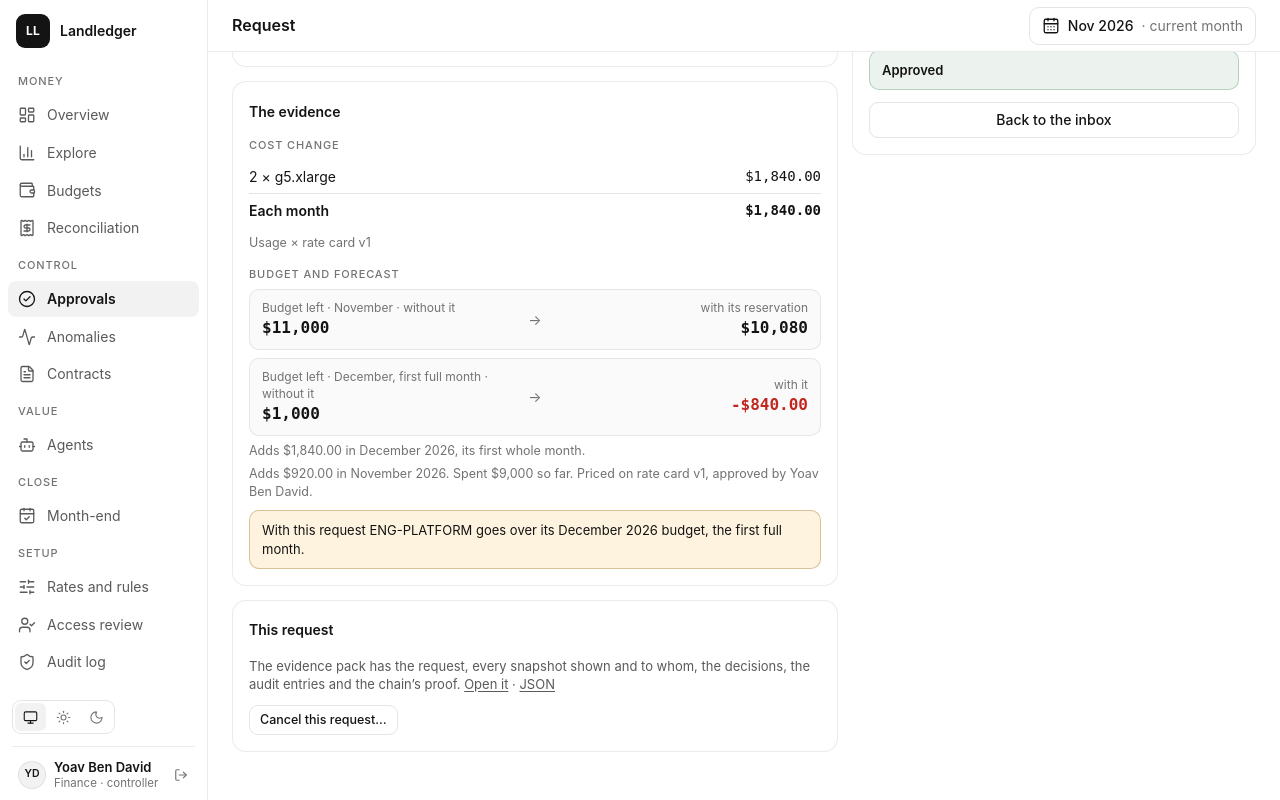
Scenario: review of wave 2 on the request page › marks a relayed decision and one by someone not the owner; shows the commitment and the first full month
(page scrolled)
Expected: the element with test id "first-full-month" shows "first full month", [262,369,481,384]
Expected: the text "Budget left · November · without it" is shown, [262,300,455,315]
Cancel sits apart from the decision and asks first.
What coordinates should you click on to do the following:
click the button with test id "cancel"
I would click on:
 (323, 720)
Its box is [249,705,398,735].
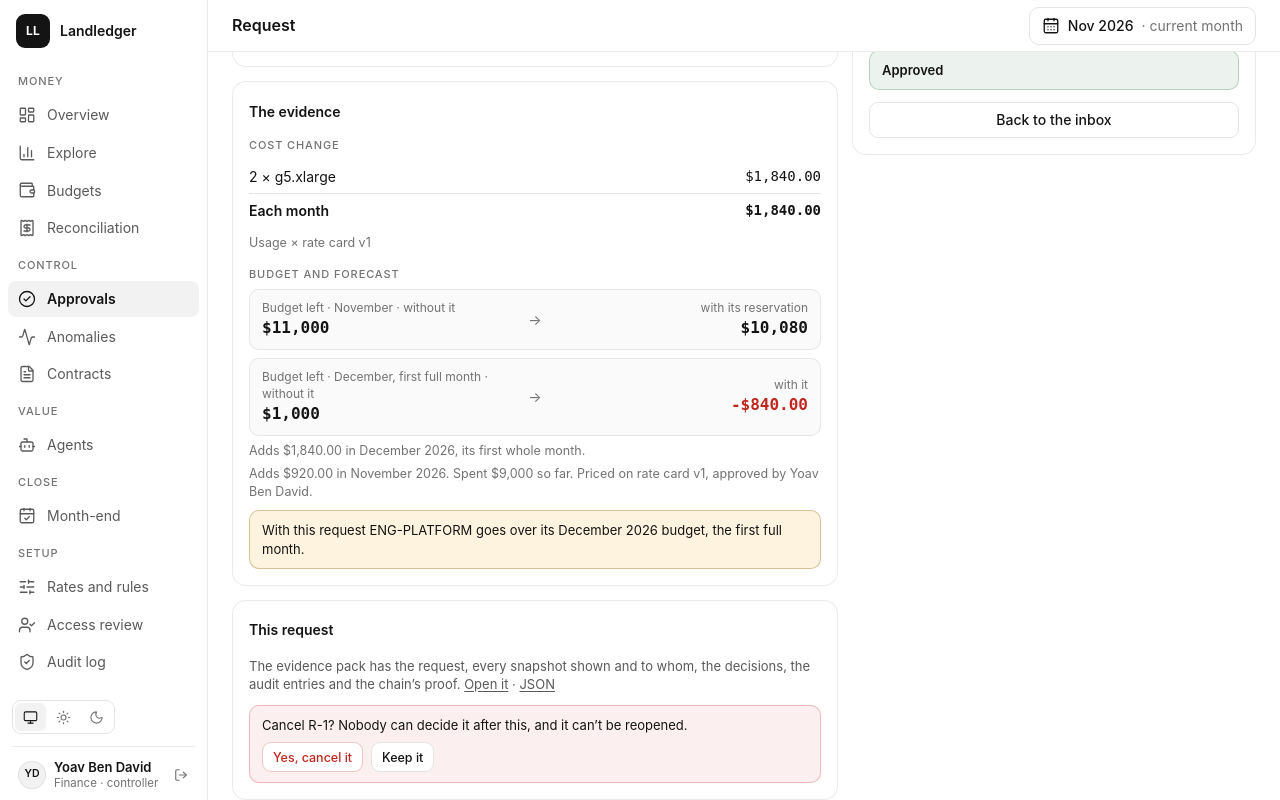
Expected: the element with test id "cancel-confirm" shows "Cancel R-1?", [249,705,821,783]
